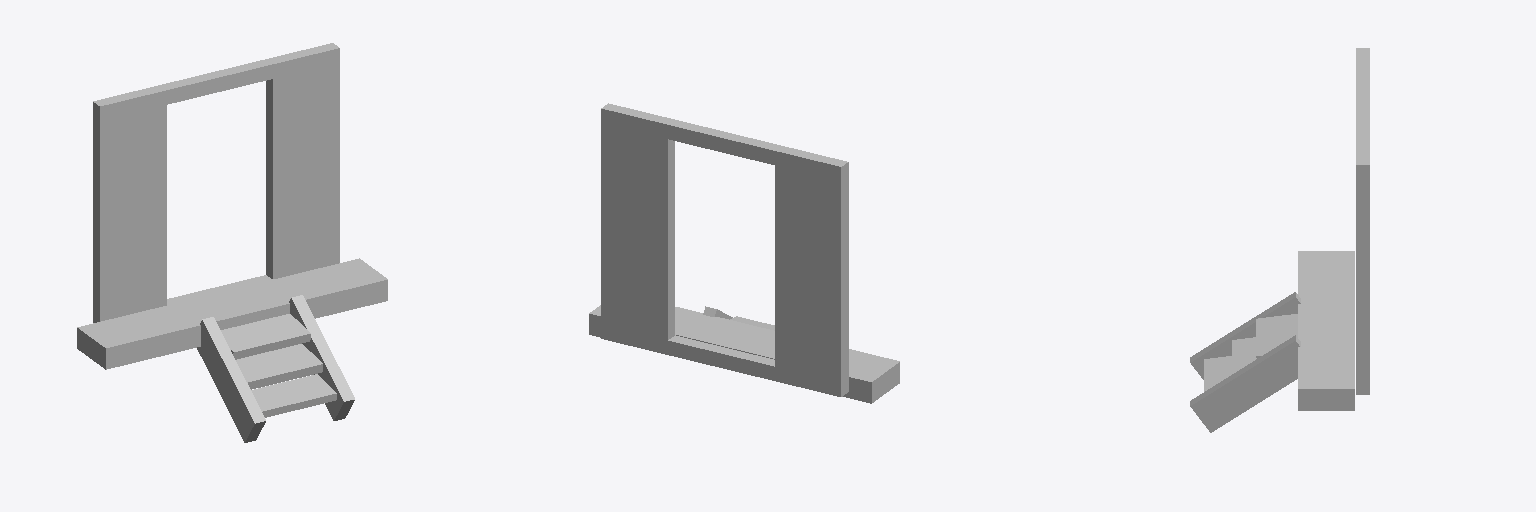
File: backsideHP.obj
3 views of the same model, side by side, from view 1: azimuth 30°, elevation 25°; view 2: azimuth 150°, elevation 25°; view 3: azimuth 270°, elevation 25° (orthographic).
Visible parts, largest first — view 1: pCube74, pCube83, stairs polySurface333, stairs polySurface335, stairs polySurface332, stairs polySurface331, polySurface334 stairs; view 2: pCube74, pCube83; view 3: pCube83, pCube74, stairs polySurface331, stairs polySurface333, stairs polySurface335, polySurface334 stairs, stairs polySurface332.
Part boxes in pixels (x1,y1,x2,y2): pCube74: (93,43,339,322); pCube83: (77,258,387,369); stairs polySurface333: (197,317,265,442); stairs polySurface335: (221,314,310,359); stairs polySurface332: (236,344,322,389); stairs polySurface331: (289,295,354,420); polySurface334 stairs: (251,374,336,417); pCube74: (601,103,848,396); pCube83: (589,305,899,403); pCube83: (1298,251,1354,410); pCube74: (1356,48,1369,394); stairs polySurface331: (1190,335,1300,432); stairs polySurface333: (1190,292,1300,379); stairs polySurface335: (1256,314,1297,358); polySurface334 stairs: (1204,356,1231,391); stairs polySurface332: (1232,337,1256,373).
Size of the model in its own units: 8.27 by 8.42 by 4.55.